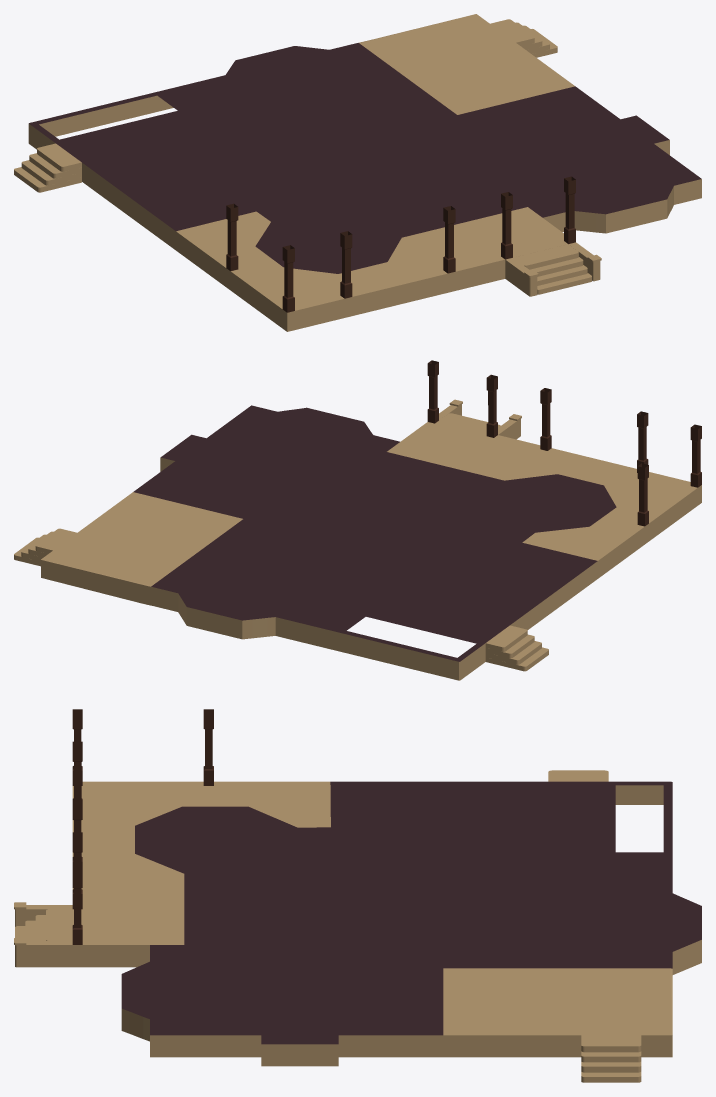
File: Ground.fbx
The picture shows the model from 3 angles, top to bottom: view 1: azimuth 30°, elevation 25°; view 2: azimuth 150°, elevation 25°; view 3: azimuth 270°, elevation 25°; orthographic projection. The views are drawn at different scales.
Visible parts, largest first — view 1: Ground.HP; view 2: Ground.HP; view 3: Ground.HP.
Boxes of the visible parts, box(x1,y1,x2,y2) form: Ground.HP: box(14, 14, 701, 331); Ground.HP: box(14, 360, 701, 680); Ground.HP: box(14, 709, 701, 1082).
Size of the model in its own units: 20.88 by 3.1 by 20.1.
